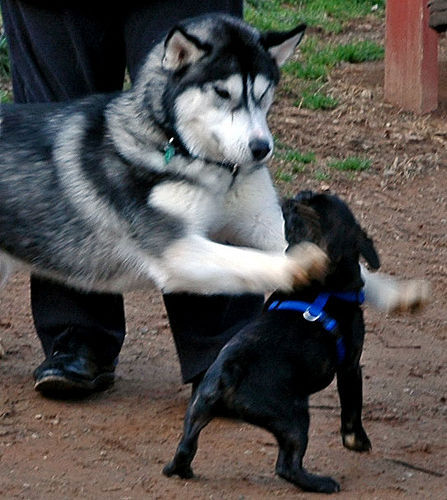dog: (0, 11, 433, 322), (159, 185, 380, 492)
